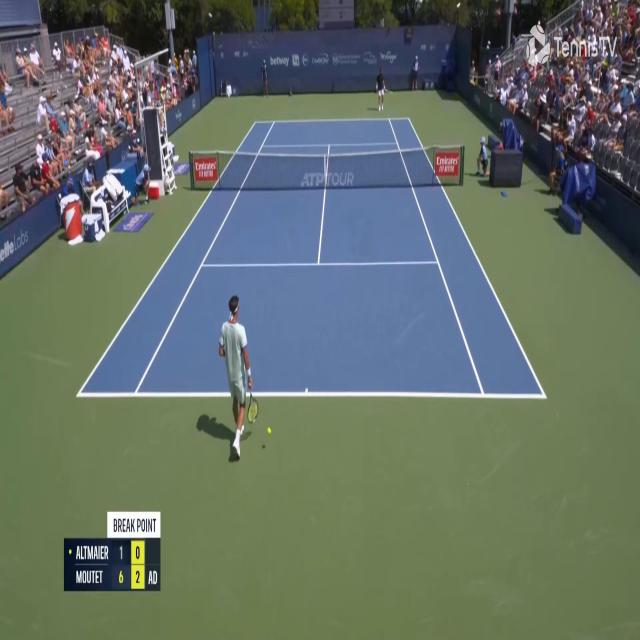tennis-player: (218, 292, 258, 458), (372, 66, 388, 111)
